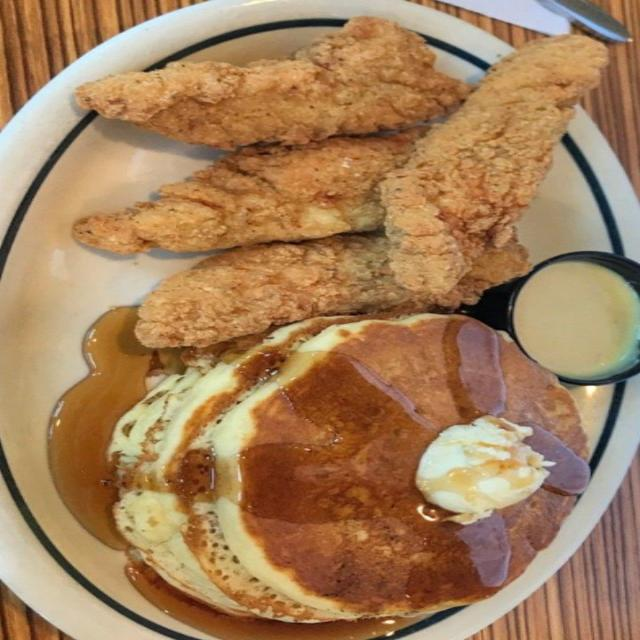Chicken -Fried Chicken-: (387, 29, 616, 296), (55, 0, 463, 145), (34, 145, 410, 243)
